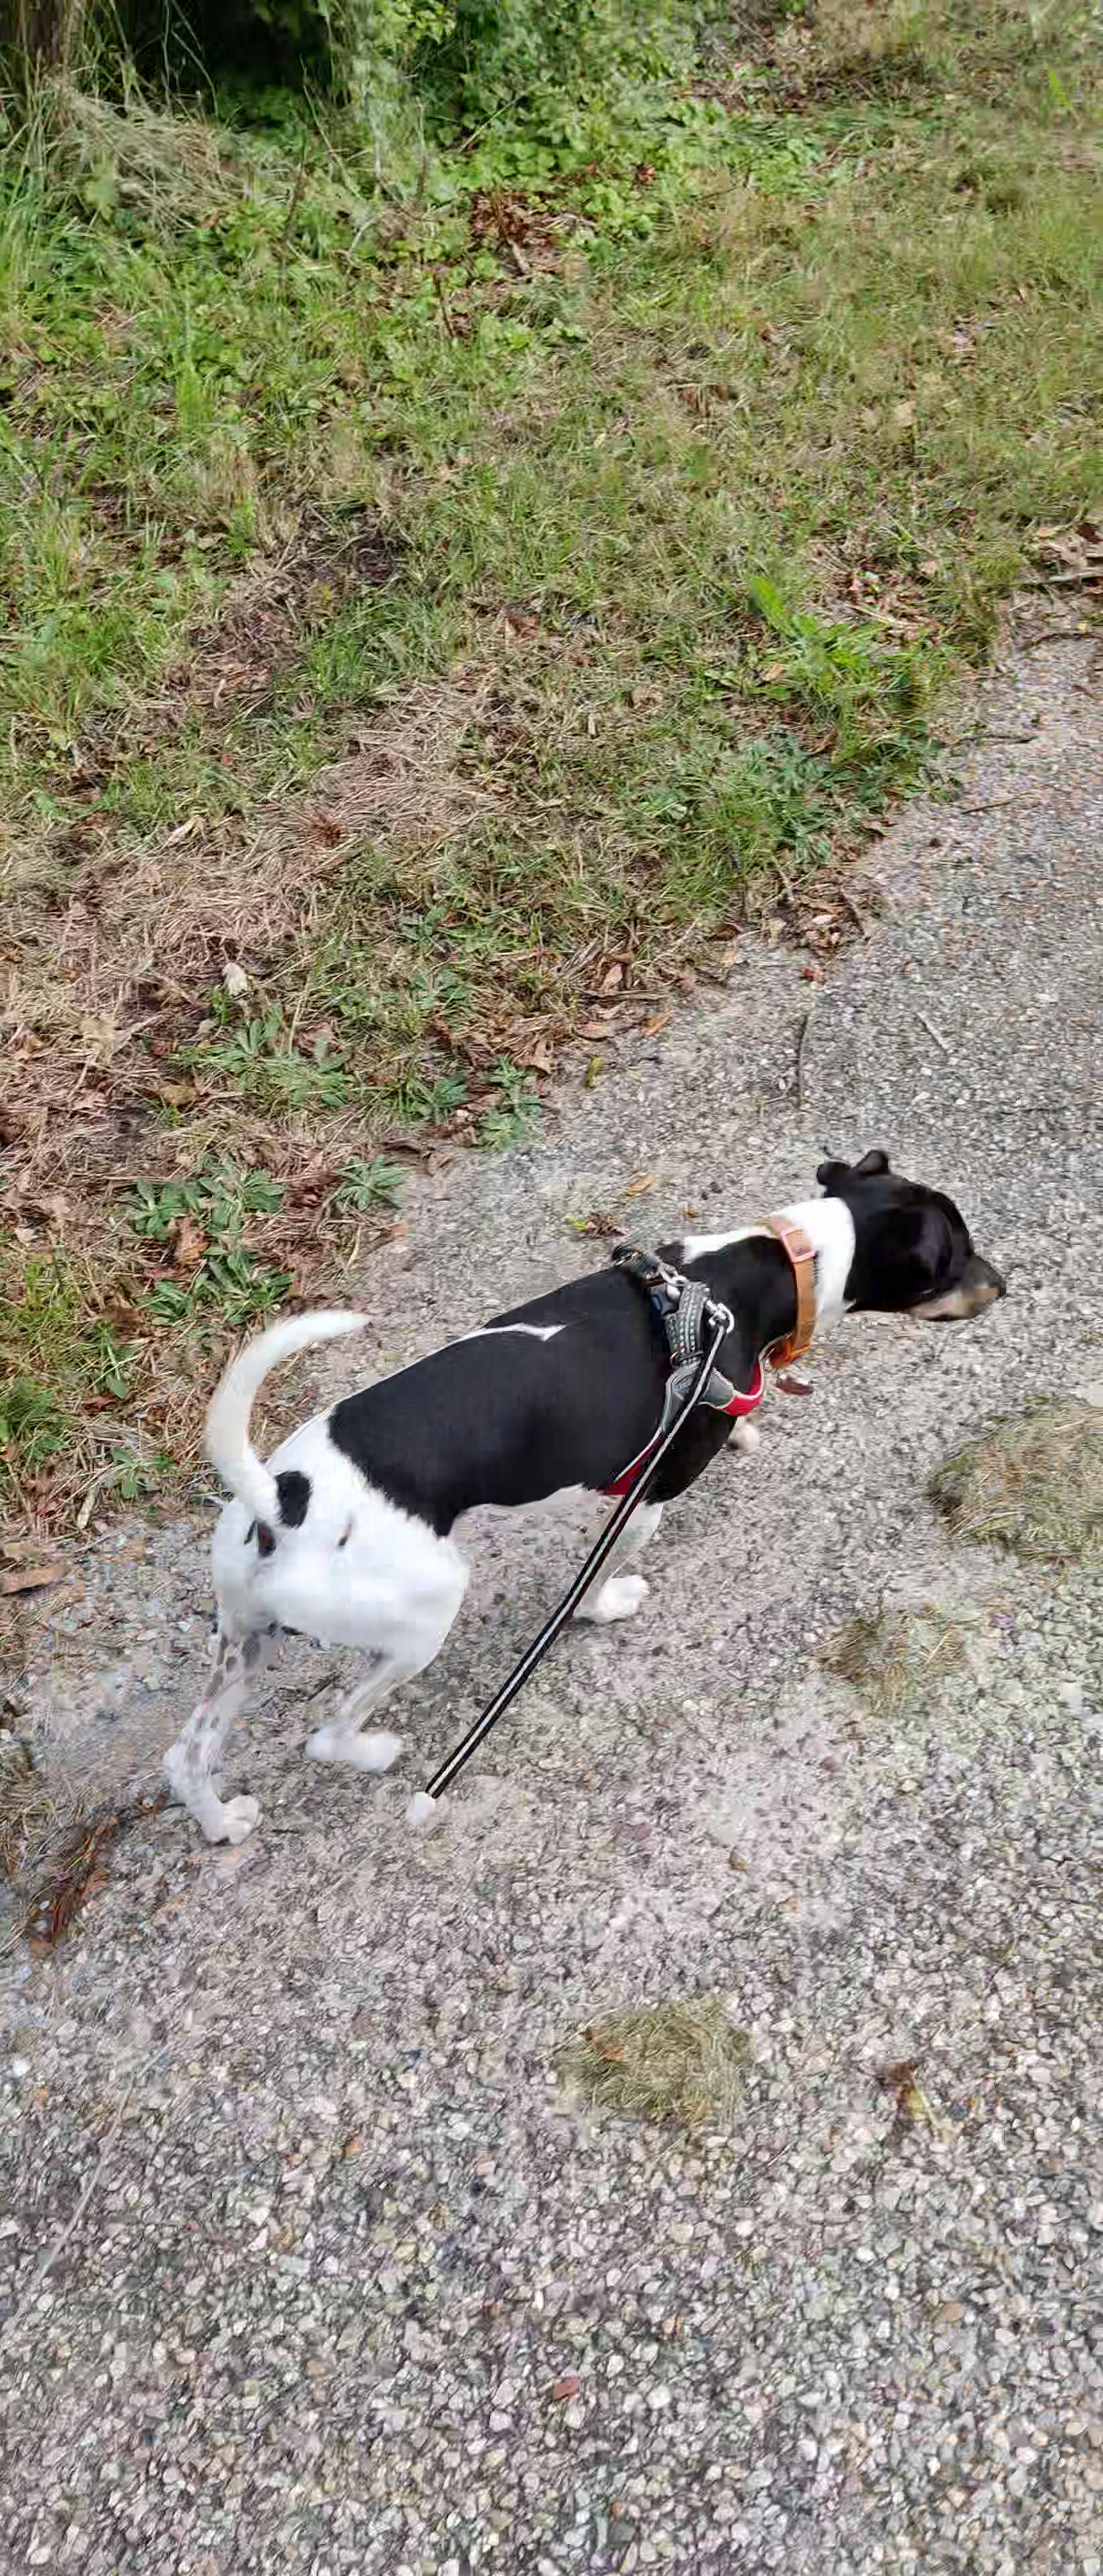Dog: (120, 1127, 1026, 1871)
